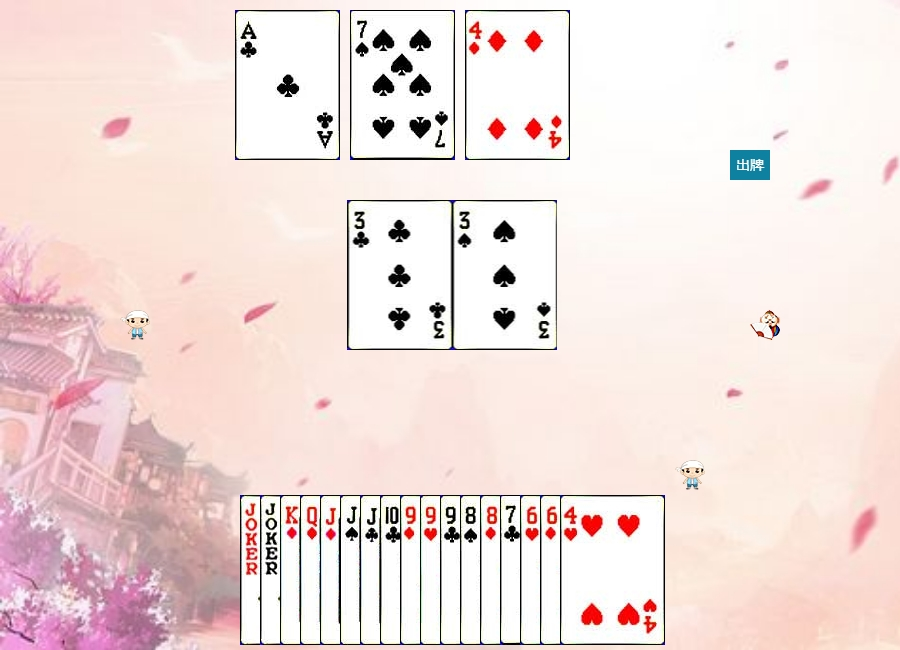10~2: (380, 495, 485, 645)
11~1: (320, 495, 425, 645)
11~2: (360, 495, 465, 645)
11~4: (340, 495, 445, 645)
12~1: (300, 495, 405, 645)
13~1: (280, 495, 385, 645)
14~2: (235, 10, 340, 160)
17~3: (260, 495, 365, 645)
18~4: (240, 495, 345, 645)
3~2: (348, 200, 453, 350)
3~4: (453, 200, 558, 350)
4~1: (465, 10, 570, 160)
4~3: (560, 495, 665, 645)
6~1: (540, 495, 645, 645)
6~3: (520, 495, 625, 645)
7~2: (500, 495, 605, 645)
7~4: (350, 10, 455, 160)
8~1: (480, 495, 585, 645)
8~4: (460, 495, 565, 645)
9~1: (400, 495, 505, 645)
9~2: (440, 495, 545, 645)
9~3: (420, 495, 525, 645)
